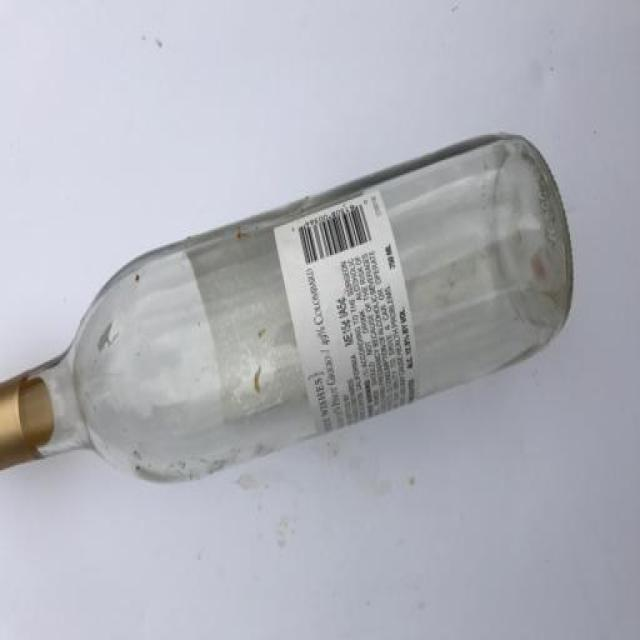inorganic: (0, 133, 574, 485)
